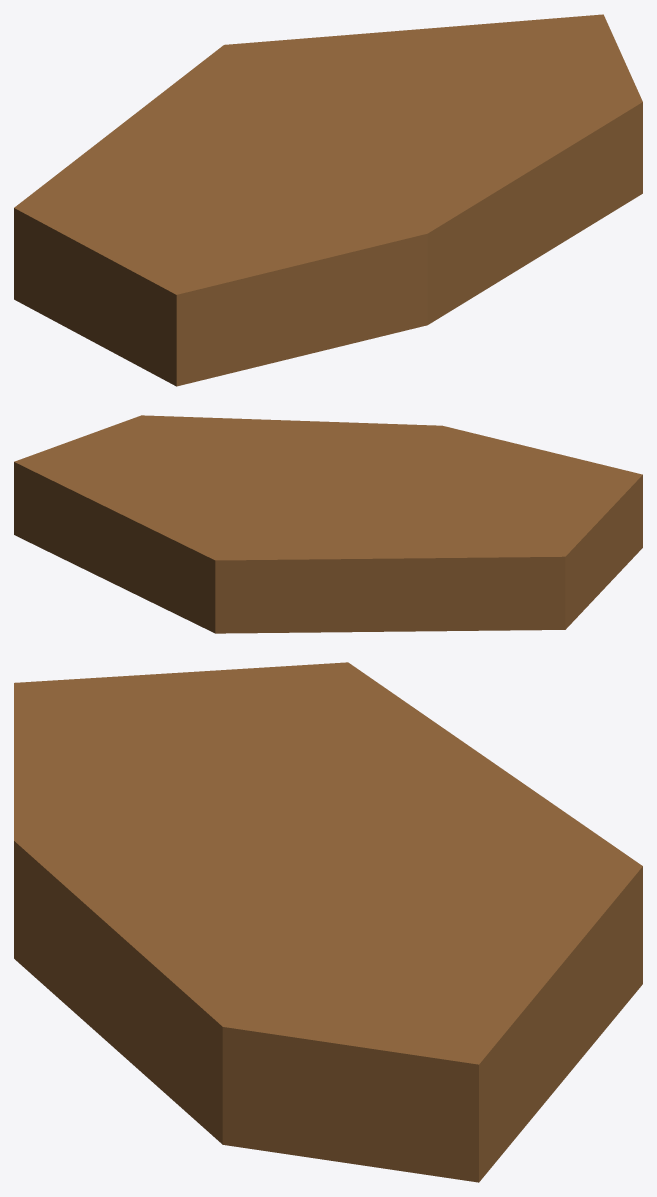
Rendered from x_proval_00_257_1_rmstrd.fbx.
The picture shows the model from 3 angles, top to bottom: view 1: azimuth 30°, elevation 25°; view 2: azimuth 150°, elevation 25°; view 3: azimuth 270°, elevation 25°; orthographic projection. The views are drawn at different scales.
Visible parts, largest first — view 1: x_proval_00_257_1_rmstrd1; view 2: x_proval_00_257_1_rmstrd1; view 3: x_proval_00_257_1_rmstrd1.
Part boxes in pixels (x1,y1,x2,y2): x_proval_00_257_1_rmstrd1: (14,14,642,386); x_proval_00_257_1_rmstrd1: (14,415,642,633); x_proval_00_257_1_rmstrd1: (14,662,642,1182).
Size of the model in its own units: 1.46 by 0.2 by 0.9664.
